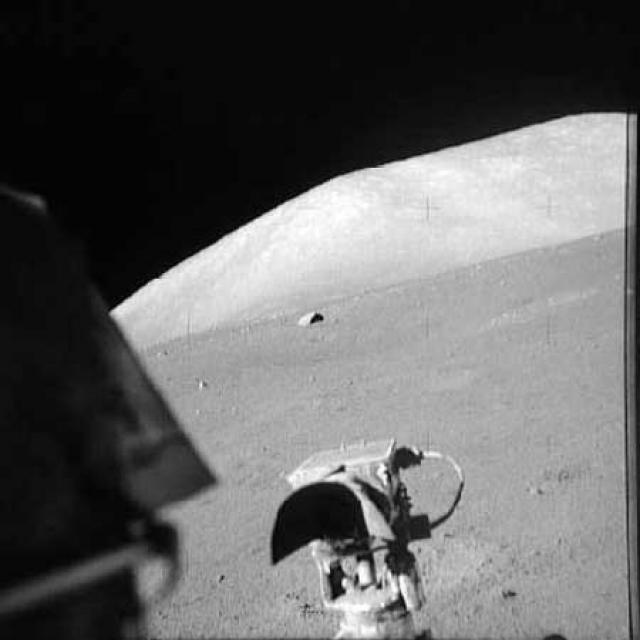artifact: (0, 182, 219, 639), (265, 425, 465, 639)
rock: (294, 302, 332, 331)
